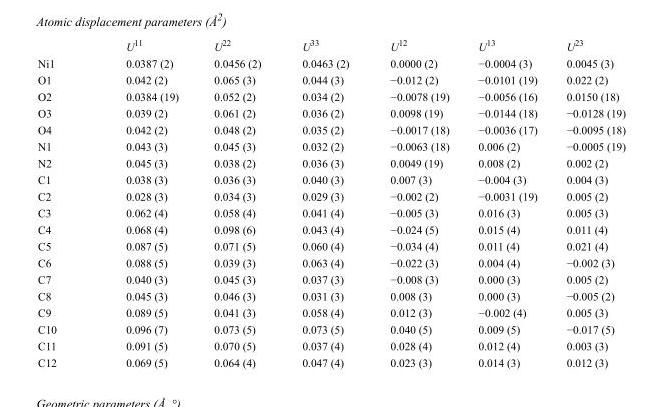table: (37, 37, 624, 368)
table column: (90, 37, 195, 368), (369, 37, 463, 368), (280, 37, 369, 368), (463, 37, 551, 368), (195, 37, 280, 368), (551, 37, 624, 368), (37, 37, 90, 368)
table column header: (37, 37, 624, 54)
table row: (37, 37, 624, 54), (37, 54, 624, 71), (37, 87, 624, 104), (37, 104, 624, 121), (37, 137, 624, 154), (37, 170, 624, 187), (37, 187, 624, 204), (37, 220, 624, 237), (37, 237, 624, 254), (37, 270, 624, 287), (37, 303, 624, 320), (37, 320, 624, 337), (37, 71, 624, 87), (37, 121, 624, 137), (37, 154, 624, 170), (37, 204, 624, 220), (37, 254, 624, 270), (37, 287, 624, 303), (37, 337, 624, 353), (37, 353, 624, 368)
